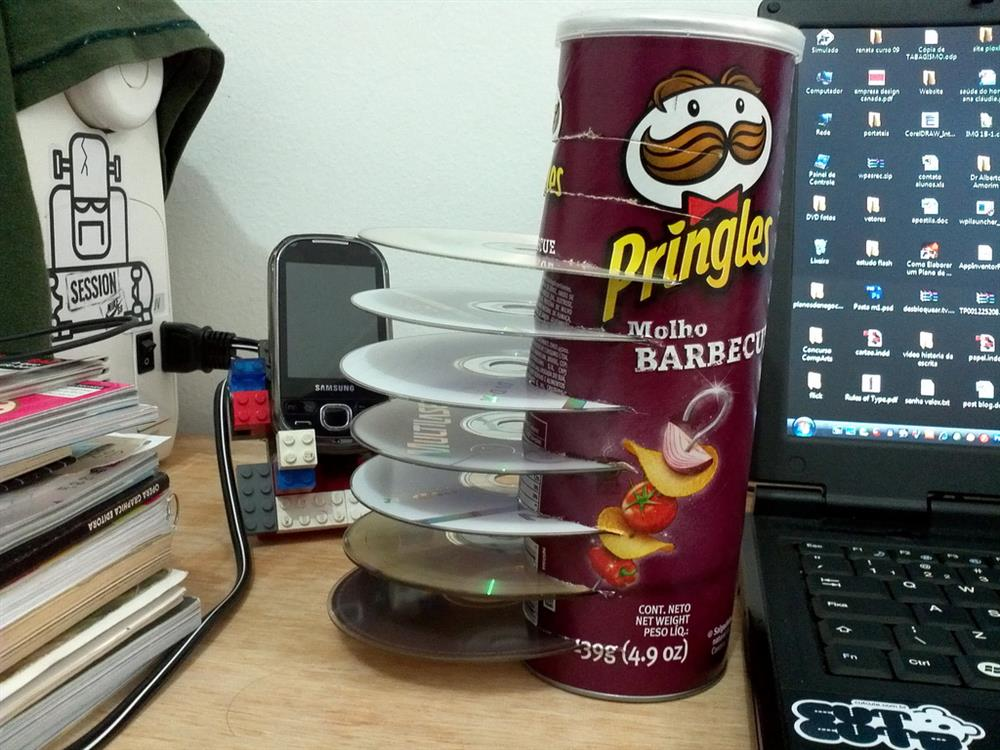pringles: (582, 64, 796, 333)
